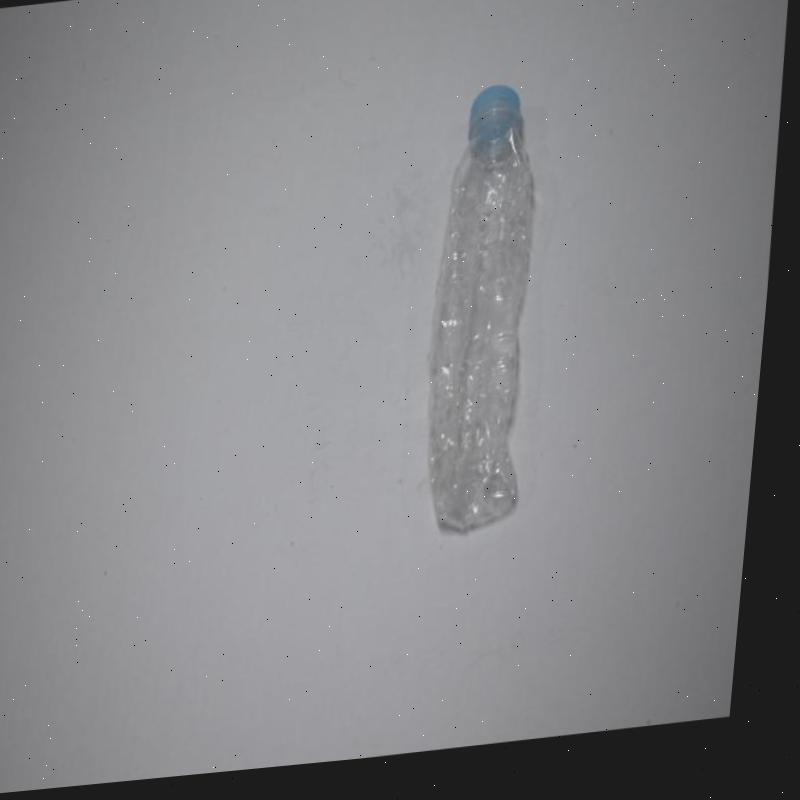botella: (413, 83, 557, 548)
